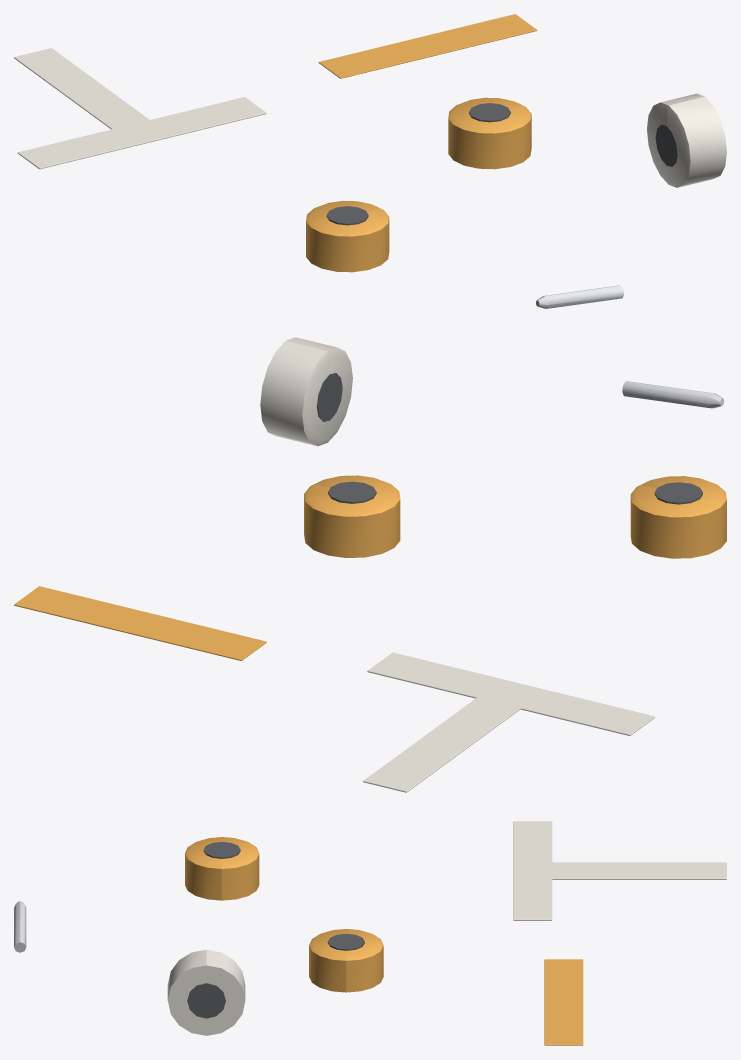
The model's file is 35495_Mark_Spikes_and_Gaffer_Tape__TV_Studio_and_Broadcast_Gallery_.glb.
The picture shows the model from 3 angles, top to bottom: view 1: azimuth 30°, elevation 25°; view 2: azimuth 150°, elevation 25°; view 3: azimuth 270°, elevation 25°; orthographic projection. The views are drawn at different scales.
Parts seen in each view (by area): view 1: mark-spikes-and-tape; view 2: mark-spikes-and-tape; view 3: mark-spikes-and-tape.
Boxes of the visible parts, bbox=[...] form: mark-spikes-and-tape: bbox=[14, 14, 726, 308]; mark-spikes-and-tape: bbox=[14, 337, 726, 792]; mark-spikes-and-tape: bbox=[14, 821, 726, 1045].
Bounding box in the file's own units: 0.68 × 0.1 × 0.918.
